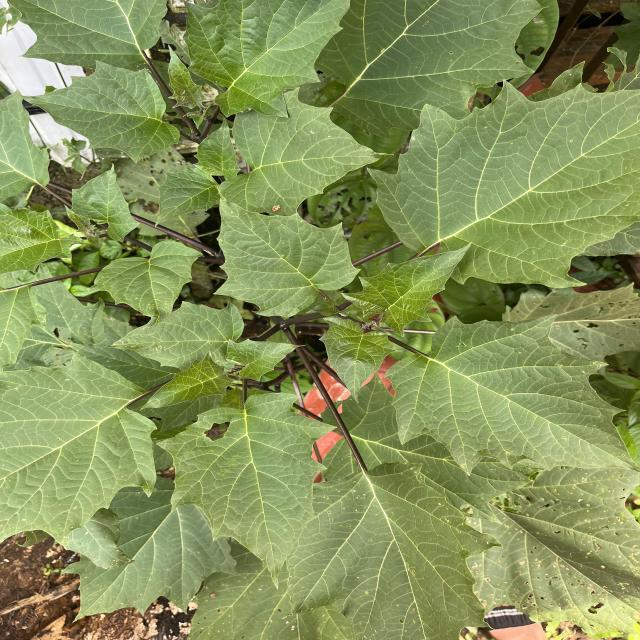Datura metal linn: (364, 74, 640, 291), (380, 312, 640, 478), (154, 390, 341, 592), (218, 84, 396, 218), (178, 0, 352, 121), (211, 184, 362, 320), (15, 59, 182, 165), (338, 240, 474, 340), (100, 298, 246, 372), (88, 239, 206, 328), (316, 316, 399, 404), (138, 350, 241, 412), (153, 164, 220, 228), (224, 338, 308, 383), (191, 115, 242, 178), (167, 41, 213, 110)
